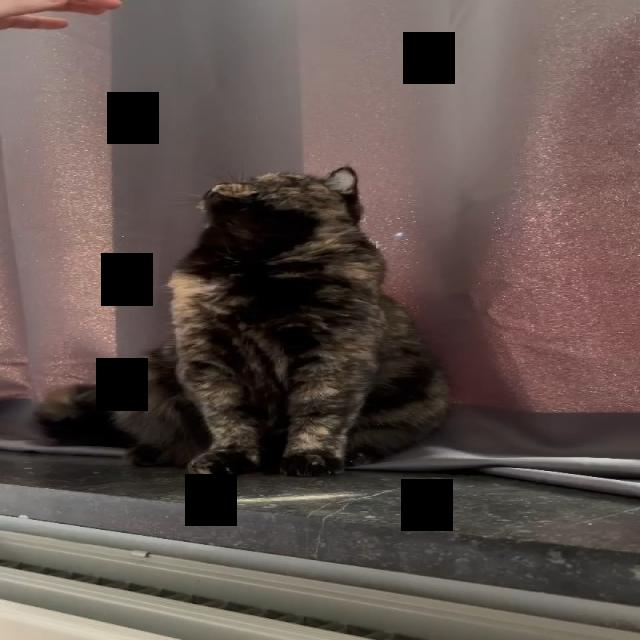authorized: (32, 165, 452, 476)
